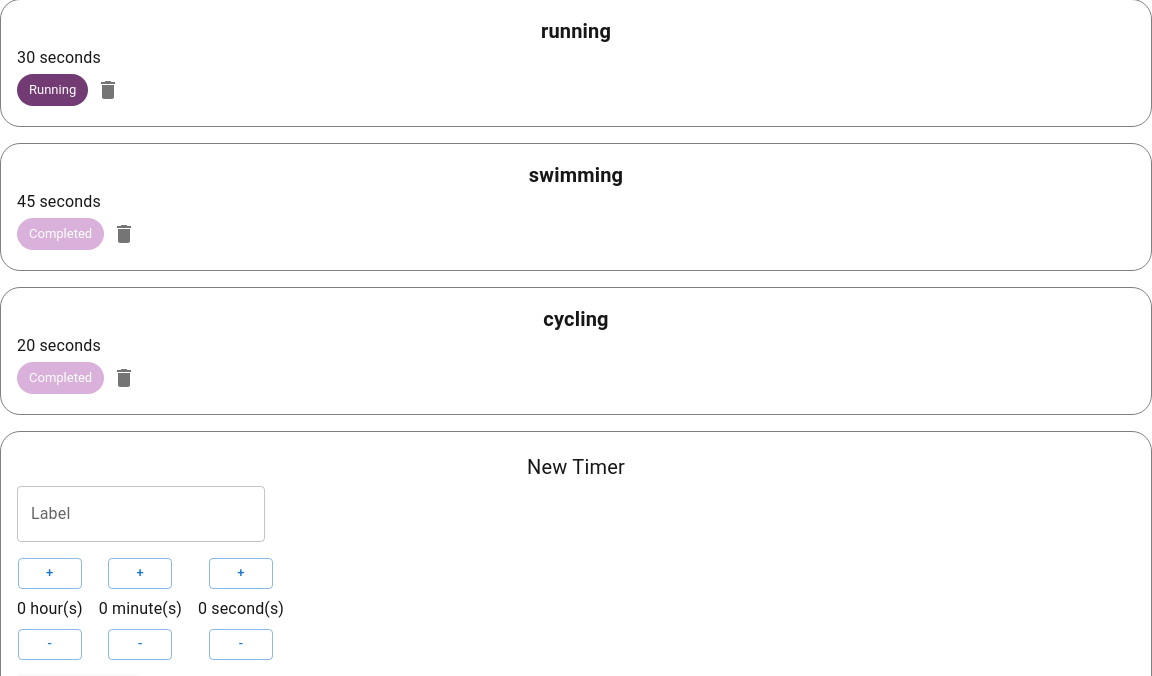
Test: Main › renders new timer when start timer button is pressed
Expected: the text "My New Timer" is not shown
Type "My New Timer" into the field at [141, 514], box [17,486,265,542]
(page scrolled)
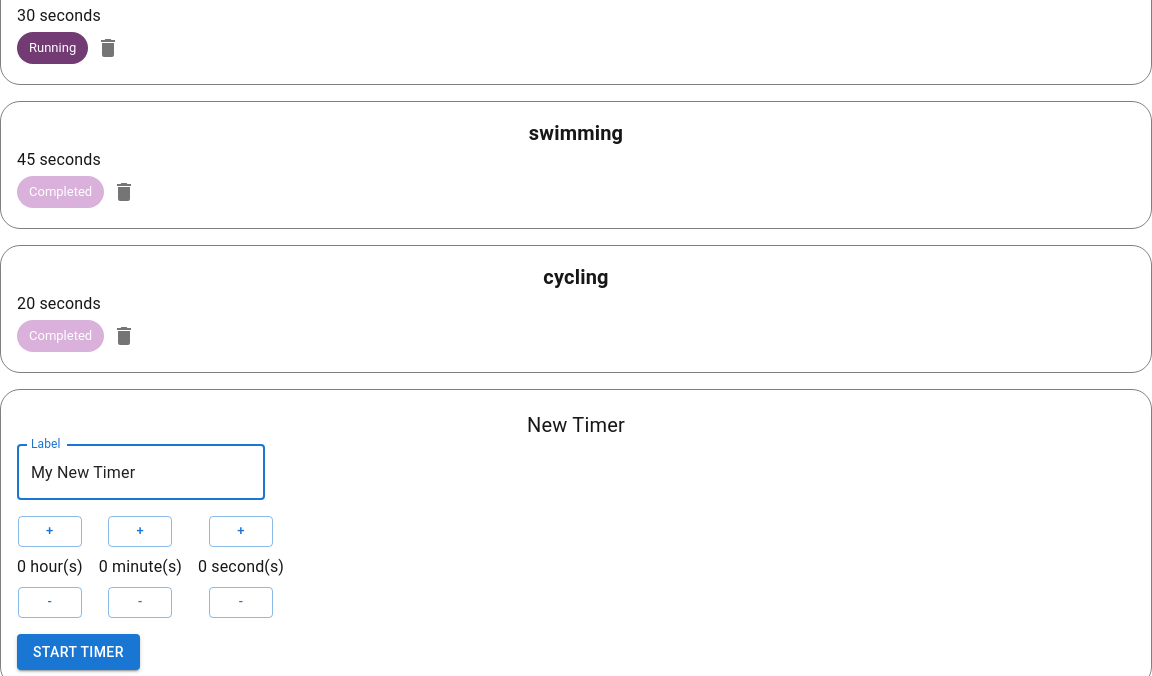
Click the button "Start Timer" at [78, 652], box [17,634,140,670]
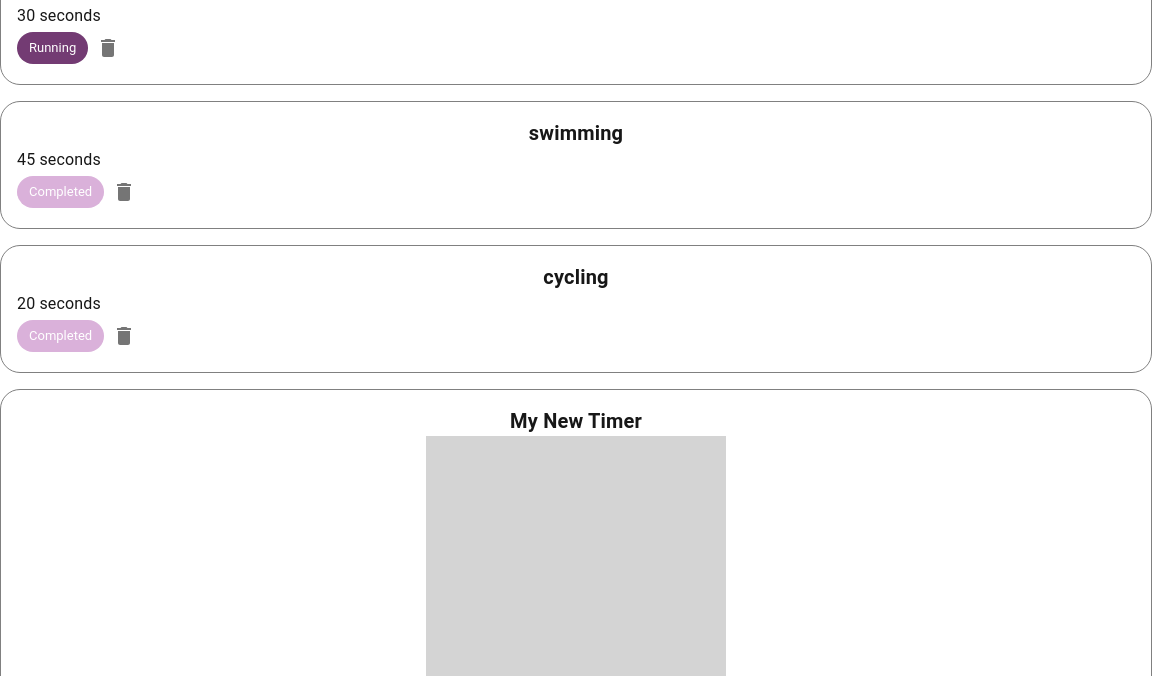
Expected: the text "My New Timer" is shown, [510,409,642,433]
